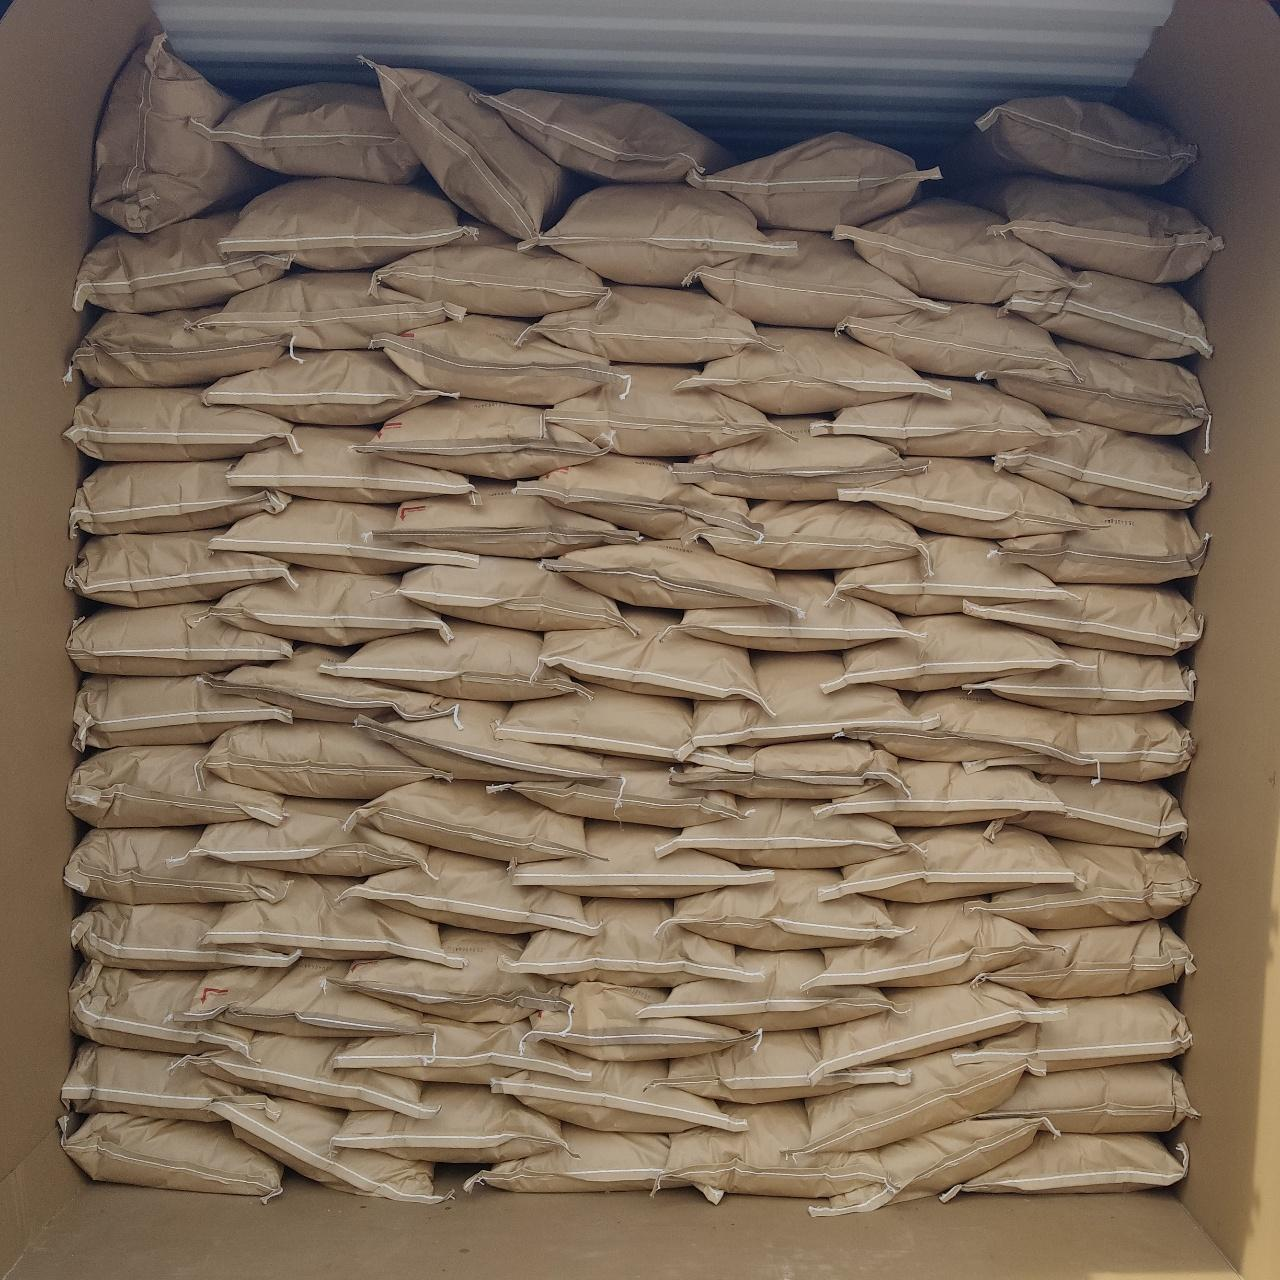sack: (370, 64, 570, 238), (94, 38, 262, 230), (526, 184, 796, 286), (964, 178, 1220, 278), (798, 1046, 1028, 1156), (688, 134, 940, 230), (838, 200, 1070, 302), (226, 1100, 452, 1204), (688, 232, 936, 326), (480, 90, 728, 182), (812, 1120, 1054, 1214), (224, 178, 476, 268), (210, 876, 462, 966), (686, 328, 946, 414), (72, 210, 290, 310), (180, 1034, 436, 1118), (374, 316, 618, 404), (696, 652, 924, 746), (344, 850, 596, 934), (464, 1123, 724, 1204), (952, 98, 1196, 184), (206, 84, 420, 182), (376, 226, 606, 316), (516, 456, 756, 542), (540, 608, 762, 700), (664, 1102, 876, 1198), (982, 342, 1208, 432), (212, 498, 478, 574), (672, 418, 918, 500), (356, 700, 602, 782), (340, 930, 558, 1022), (512, 900, 744, 986), (548, 366, 774, 454), (330, 620, 578, 700), (176, 958, 424, 1038), (840, 458, 1094, 536), (204, 272, 462, 348), (354, 780, 592, 862), (822, 984, 1054, 1068), (970, 840, 1196, 926), (642, 950, 890, 1028), (824, 826, 1078, 902), (382, 482, 636, 558), (188, 798, 428, 878), (848, 690, 1086, 770), (494, 1056, 744, 1132), (996, 418, 1206, 508), (368, 398, 602, 478), (510, 822, 770, 894), (670, 574, 916, 650), (204, 644, 456, 718), (960, 990, 1190, 1070), (518, 286, 760, 362), (228, 426, 470, 502), (810, 380, 1058, 454), (498, 686, 732, 764), (838, 534, 1066, 614), (824, 900, 1040, 984), (656, 1030, 908, 1102), (1006, 270, 1212, 358), (824, 614, 1062, 690), (62, 1114, 282, 1196), (200, 350, 450, 422), (204, 720, 434, 798), (212, 568, 446, 644), (670, 872, 902, 948), (336, 1084, 562, 1162), (398, 556, 630, 630), (490, 758, 742, 826), (70, 960, 248, 1054), (68, 532, 294, 606), (964, 584, 1202, 654), (70, 310, 288, 386), (68, 746, 280, 824), (658, 800, 908, 866), (66, 828, 288, 902), (66, 388, 294, 460), (840, 304, 1068, 376), (978, 920, 1192, 996), (334, 1018, 588, 1082), (542, 540, 788, 606), (74, 676, 292, 750), (530, 984, 748, 1058), (942, 1132, 1186, 1198), (72, 460, 286, 534), (64, 1042, 270, 1118), (72, 900, 294, 970), (996, 508, 1206, 582), (978, 1062, 1196, 1132), (816, 760, 1058, 822), (68, 604, 292, 670), (972, 646, 1194, 710), (706, 502, 920, 566), (988, 778, 1182, 846), (672, 740, 904, 796), (1038, 712, 1192, 778)
